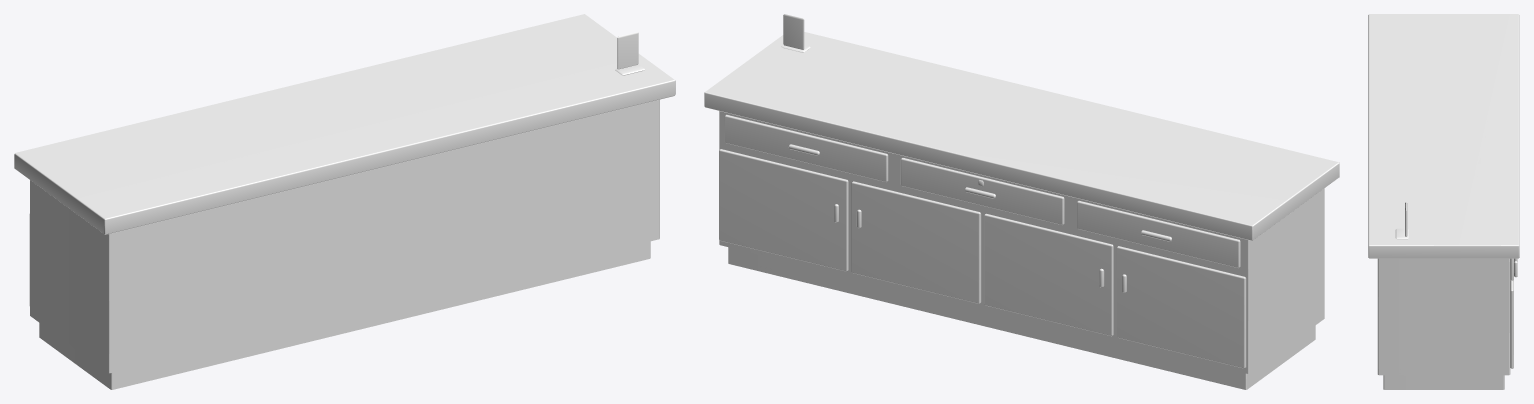
The model's file is counter.glb.
The picture shows the model from 3 angles, left to right: view 1: azimuth 30°, elevation 25°; view 2: azimuth 150°, elevation 25°; view 3: azimuth 270°, elevation 25°; orthographic projection. The views are drawn at different scales.
Visible parts, largest first — view 1: Counter; view 2: Counter; view 3: Counter.
Boxes of the visible parts, bbox=[...] form: Counter: bbox=[14, 14, 675, 389]; Counter: bbox=[704, 14, 1339, 389]; Counter: bbox=[1368, 14, 1519, 389].
Bounding box in the file's own units: 2.9 × 1.05 × 0.8.
Materials: 1 (1 with a texture image).
